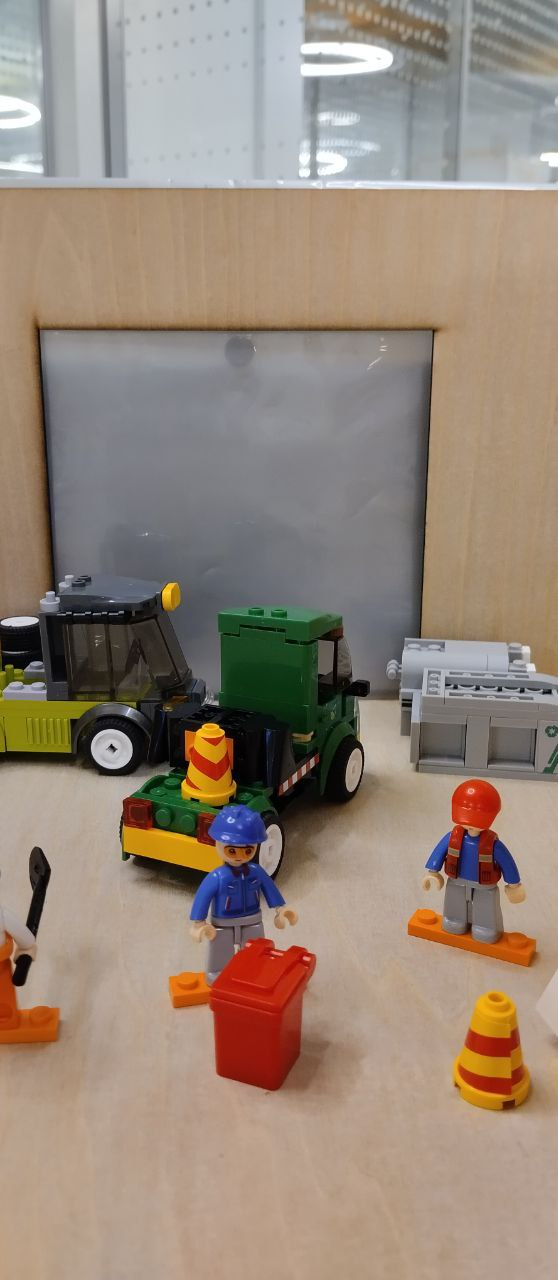Cone: (457, 988, 536, 1112), (185, 724, 236, 801)
Crane: (0, 573, 208, 776)
Object Black: (176, 707, 296, 790)
Object Red: (209, 936, 314, 1089)
Truck: (124, 606, 367, 877)
